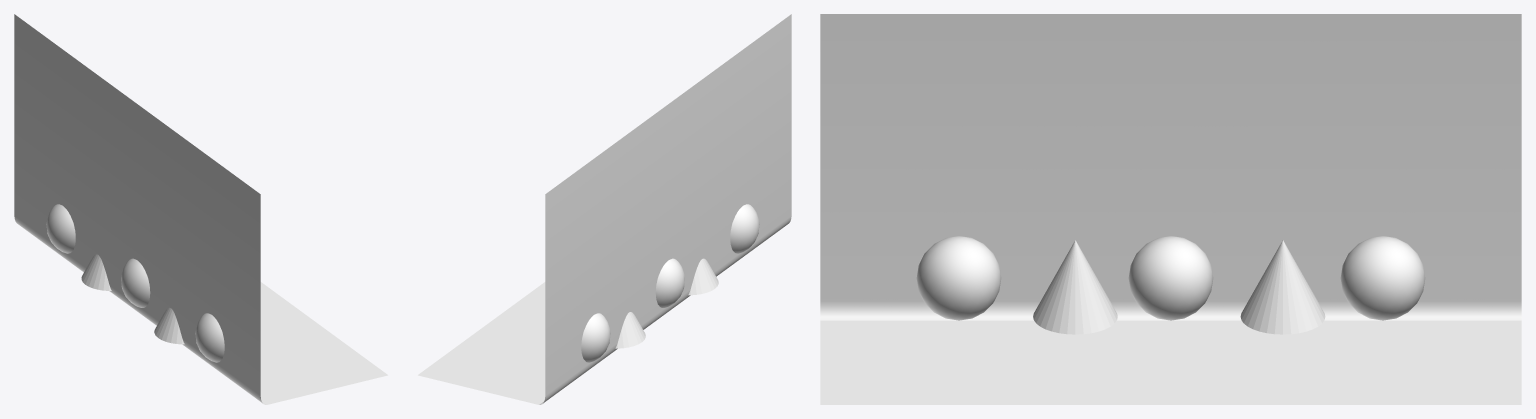
The model's file is StudioLighting.fbx.
3 views of the same model, side by side, from view 1: azimuth 30°, elevation 25°; view 2: azimuth 150°, elevation 25°; view 3: azimuth 270°, elevation 25° (orthographic). The views are drawn at different scales.
Visible parts, largest first — view 1: Plane, Icosphere.001, Icosphere.002, Icosphere.003, Cone, Cone.001; view 2: Plane, Icosphere.002, Icosphere.001, Icosphere.003, Cone, Cone.001; view 3: Plane, Icosphere.001, Icosphere.002, Icosphere.003, Cone, Cone.001.
Part boxes in pixels (bbox=[...]): Plane: bbox=[14, 14, 387, 404]; Icosphere.001: bbox=[195, 313, 224, 362]; Icosphere.002: bbox=[46, 204, 75, 253]; Icosphere.003: bbox=[121, 258, 150, 307]; Cone: bbox=[154, 307, 184, 344]; Cone.001: bbox=[81, 254, 111, 290]; Plane: bbox=[418, 14, 791, 404]; Icosphere.002: bbox=[581, 313, 610, 362]; Icosphere.001: bbox=[730, 204, 759, 253]; Icosphere.003: bbox=[655, 258, 684, 307]; Cone: bbox=[688, 258, 718, 295]; Cone.001: bbox=[615, 312, 645, 348]; Plane: bbox=[820, 14, 1521, 404]; Icosphere.001: bbox=[916, 236, 1001, 320]; Icosphere.002: bbox=[1340, 236, 1425, 320]; Icosphere.003: bbox=[1128, 236, 1213, 320]; Cone: bbox=[1033, 240, 1117, 334]; Cone.001: bbox=[1240, 240, 1325, 334].
Size of the model in its own units: 546 by 786 by 1654.
